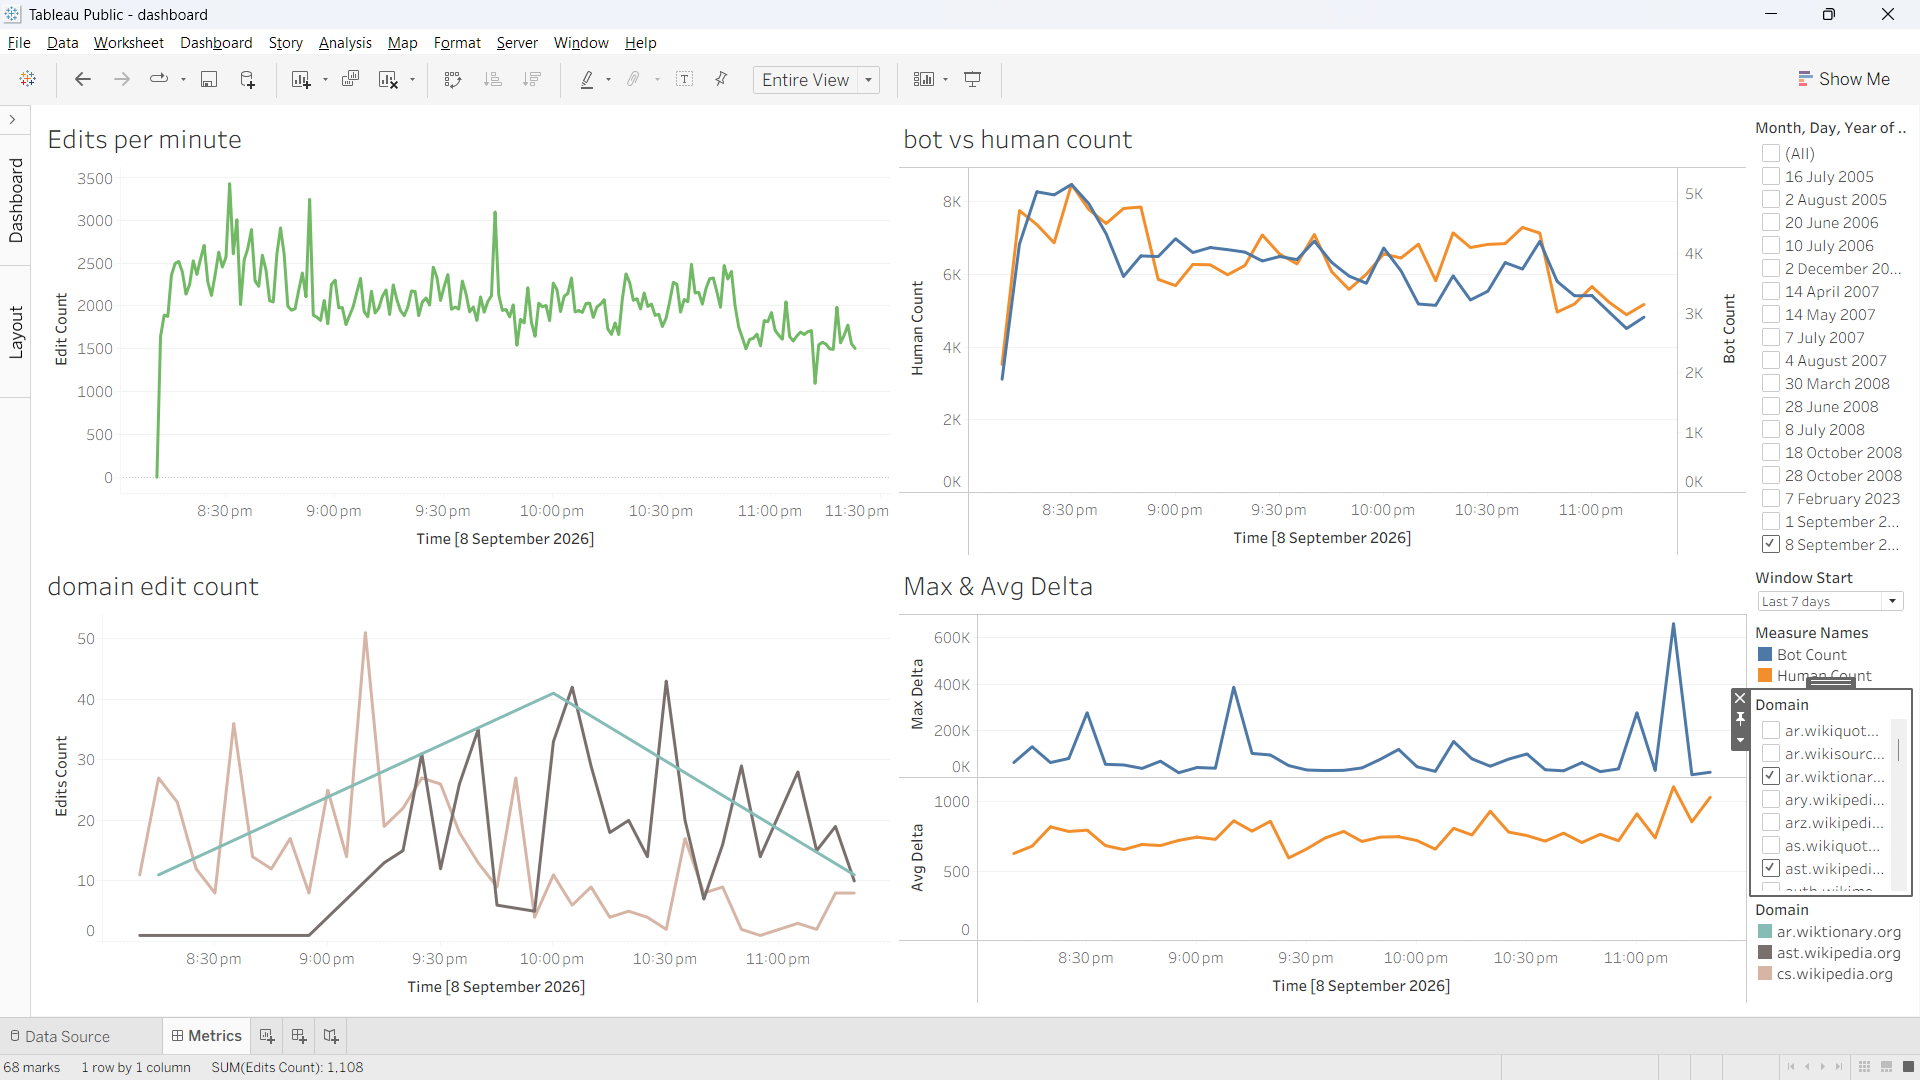

The dashboard page shown, as its layout file describes it:
{"tool":"tableau","page":{"name":"Metrics","canvas":[1000,1000],"units":"permille","ordinal":0},"visuals":[{"type":"worksheet","title":"Edits per minute","mark":"Automatic","rows":["edit_count"],"cols":["window_start"],"box":[4.2,8.8,453.3,491.1]},{"type":"worksheet","title":"bot vs human count","mark":"Line","rows":["human_count","bot_count"],"cols":["window_start"],"box":[457.5,8.8,453.5,491.1]},{"type":"filter","title":"Edits per minute","param":"[federated.1cnukky13j7gxn1dydzf41j7p7uv].[md:window_start:ok]","box":[911,8.8,84.8,494]},{"type":"worksheet","title":"domain edit count","mark":"Automatic","rows":["edits_count"],"cols":["window_start"],"box":[4.2,499.9,453.3,491.3]},{"type":"worksheet","title":"Max & Avg Delta","mark":"Automatic","rows":["max_delta","avg_delta"],"cols":["window_start"],"box":[457.5,499.9,453.5,491.3]},{"type":"filter","title":"domain edit count","param":"[federated.0yg9vsp0wrqfiu10ns1oj1pvjye3].[none:window_start:qk]","box":[911,502.7,84.8,60.4]},{"type":"legend","title":"bot vs human count","param":"[federated.0dzy8yh1vqs3as1cpwnny1522lmj].[:Measure Names]","box":[911,563.1,84.8,79]},{"type":"filter","title":"domain edit count","param":"[federated.0yg9vsp0wrqfiu10ns1oj1pvjye3].[none:domain:nk]","box":[911,642.1,84.8,225]},{"type":"legend","title":"domain edit count","param":"[federated.0yg9vsp0wrqfiu10ns1oj1pvjye3].[none:domain:nk]","box":[911,867.2,84.8,102.1]}]}

Visuals, with their boxes on the dashboard's canvas, which has no fixed pixel size, in thousandths of its width and height (x1, y1, x2, y2). These are canvas units, not pixel positions in the 1920x1080 screenshot, which may show the page scaled, cropped or inside an application window:
"Edits per minute" worksheet: l=4, t=9, r=458, b=500
"bot vs human count" worksheet (Line marks): l=458, t=9, r=911, b=500
"Edits per minute" filter: l=911, t=9, r=996, b=503
"domain edit count" worksheet: l=4, t=500, r=458, b=991
"Max & Avg Delta" worksheet: l=458, t=500, r=911, b=991
"domain edit count" filter: l=911, t=503, r=996, b=563
"bot vs human count" legend: l=911, t=563, r=996, b=642
"domain edit count" filter: l=911, t=642, r=996, b=867
"domain edit count" legend: l=911, t=867, r=996, b=969
